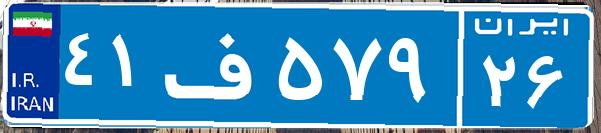1: (110, 28, 158, 105)
2: (475, 38, 525, 113)
4: (57, 26, 110, 107)
5: (273, 28, 330, 110)
6: (525, 38, 570, 115)
7: (330, 28, 385, 110)
9: (385, 28, 445, 110)
ف: (158, 15, 273, 115)
